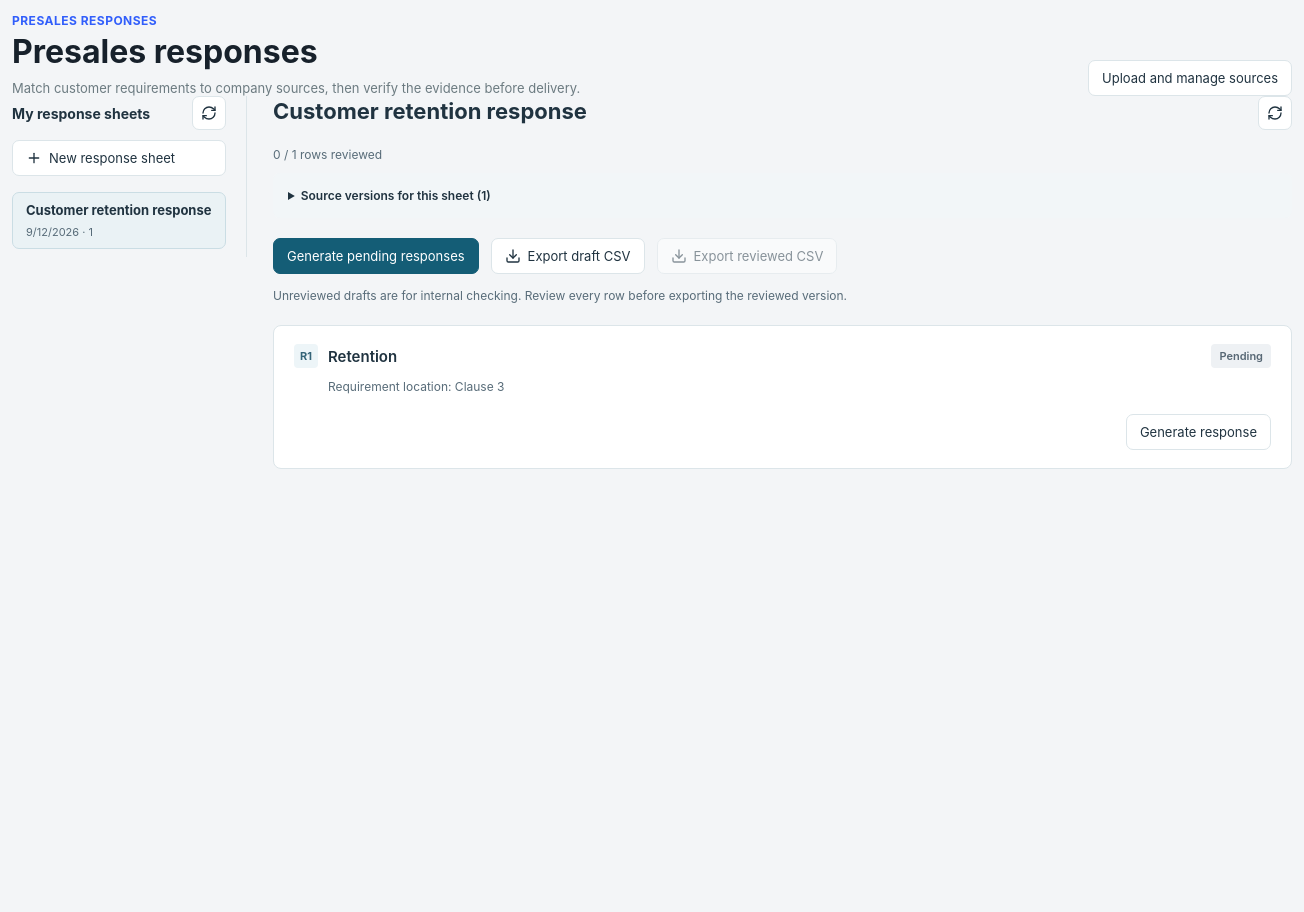
PresalesWorkspace HTTP boundary › reads the durable result after a proxy timeout without repeating generation
Step 1. Click the button "Generate response" → point(1198, 432), box [1126,414,1271,450]
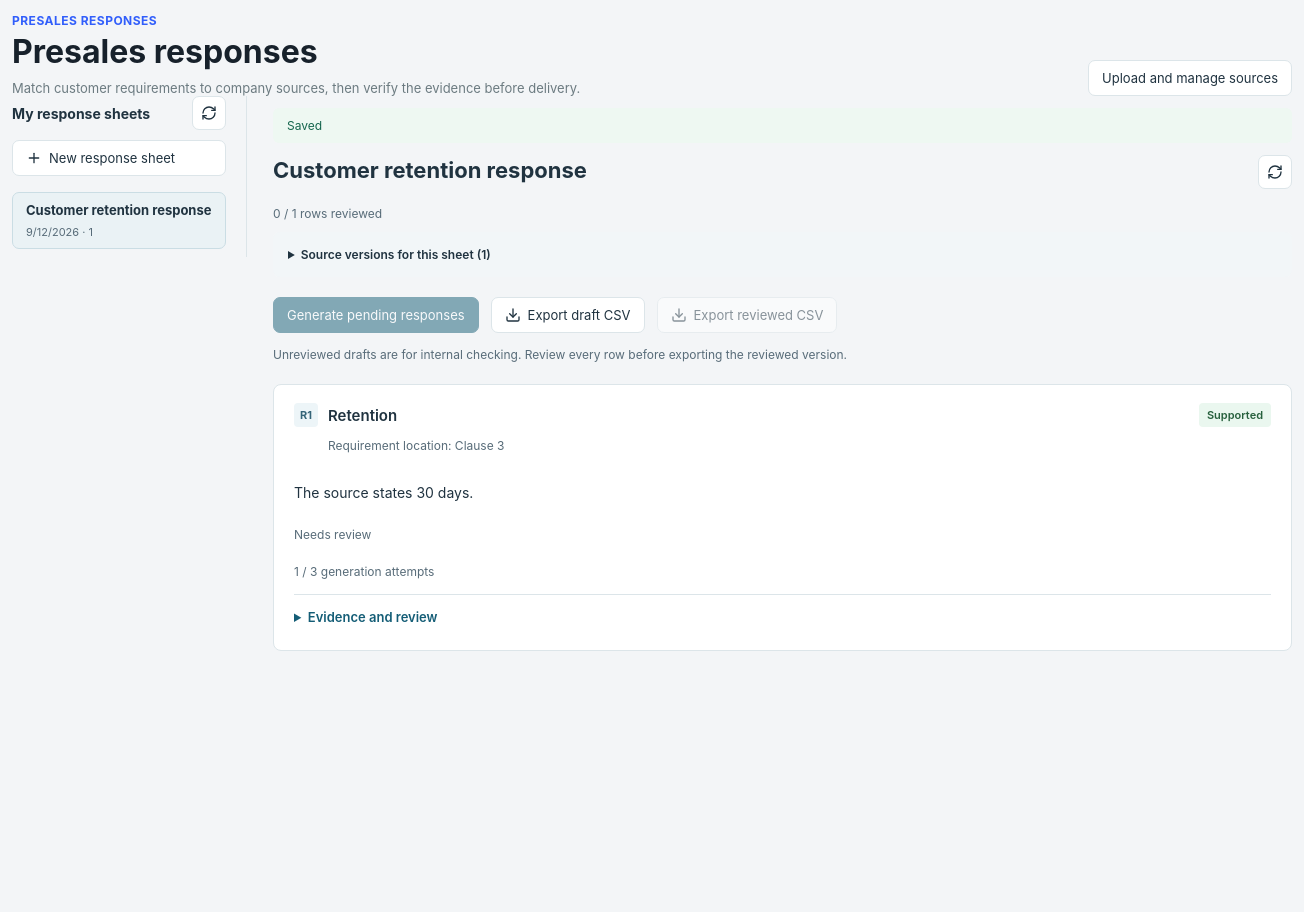
Check: the text "The source states 30 days." is shown, box [294,484,473,501]
